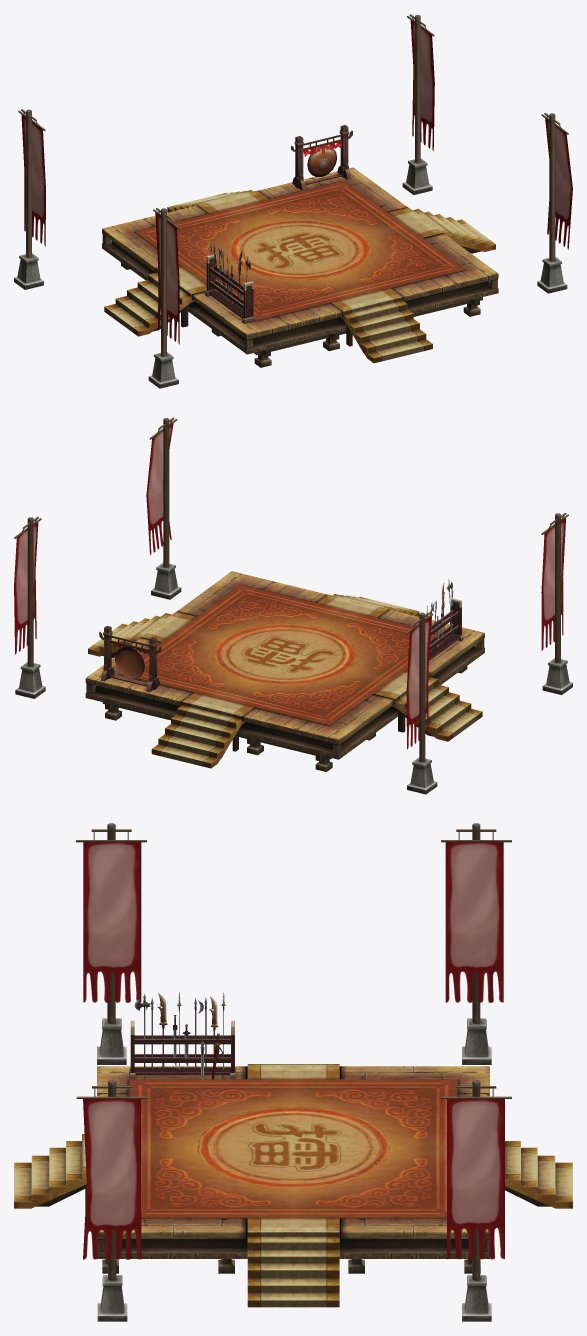
The picture shows the model from 3 angles, top to bottom: view 1: azimuth 30°, elevation 25°; view 2: azimuth 150°, elevation 25°; view 3: azimuth 270°, elevation 25°; orthographic projection. The views are drawn at different scales.
Parts seen in each view (by area): view 1: Arena; view 2: Arena; view 3: Arena.
Boxes of the visible parts, left/top/right/bottom form: Arena: left=14, top=14, right=572, bottom=388; Arena: left=14, top=417, right=572, bottom=794; Arena: left=14, top=823, right=572, bottom=1321.
Bounding box in the file's own units: 10.67 × 4.45 × 9.32.
Materials: 2 (2 with a texture image).
